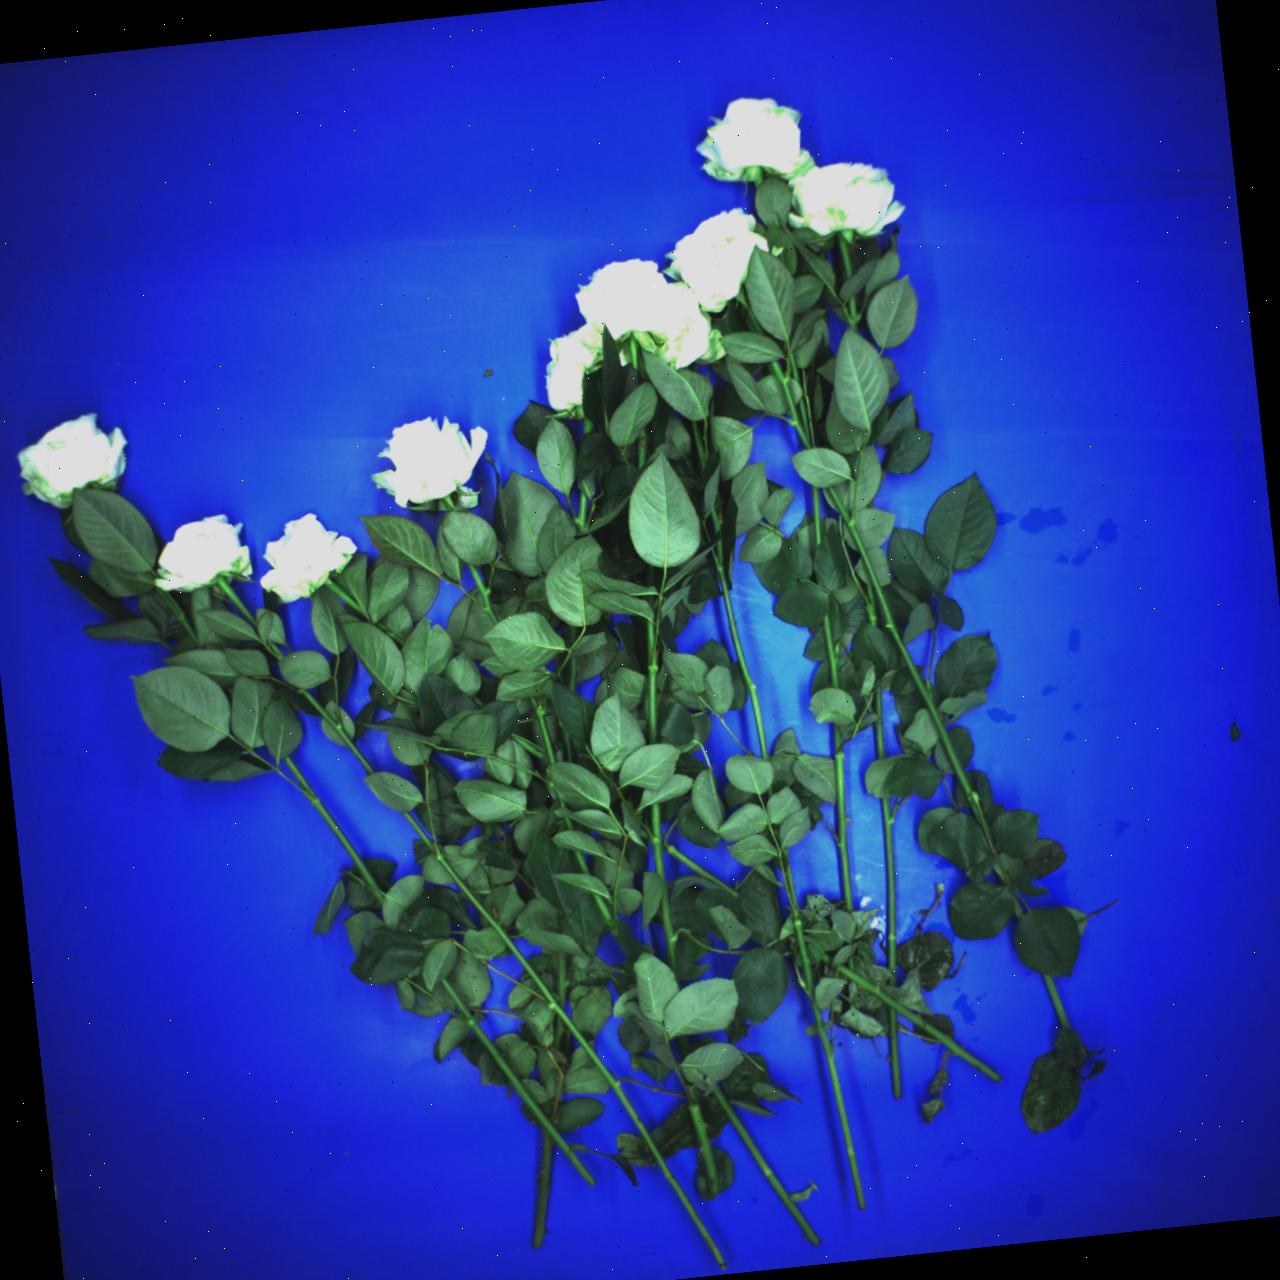Stem: (389, 804, 744, 1272), (824, 483, 992, 830), (438, 979, 597, 1189), (790, 906, 866, 1211), (836, 965, 1005, 1083), (709, 1084, 821, 1246), (281, 755, 389, 905), (710, 540, 772, 763), (299, 682, 376, 781), (648, 803, 680, 990), (659, 839, 741, 899), (831, 723, 855, 914), (770, 359, 812, 451), (155, 585, 205, 649), (880, 797, 898, 972), (688, 1104, 721, 1194), (531, 1131, 554, 1248), (216, 578, 261, 631), (468, 560, 501, 628), (530, 695, 558, 764), (325, 579, 372, 619), (819, 613, 843, 690), (886, 1006, 903, 1099), (1043, 973, 1070, 1029), (646, 620, 658, 744), (592, 892, 621, 937), (510, 733, 545, 760), (782, 849, 797, 908), (690, 421, 708, 472), (873, 687, 885, 758), (374, 620, 406, 646), (836, 232, 852, 280), (811, 485, 823, 547), (798, 400, 811, 444), (572, 847, 591, 878), (557, 951, 566, 1010), (550, 1016, 566, 1049), (846, 297, 860, 334), (706, 504, 723, 533), (865, 585, 877, 628), (577, 491, 588, 535), (787, 355, 802, 387), (748, 307, 764, 336), (563, 729, 574, 763), (550, 792, 570, 810), (268, 639, 285, 660), (629, 336, 639, 372), (639, 430, 647, 470), (678, 1036, 689, 1062), (567, 659, 576, 692), (1010, 900, 1024, 919), (645, 565, 654, 588), (639, 830, 654, 843), (563, 816, 574, 832), (821, 954, 835, 967), (584, 417, 593, 435), (568, 626, 574, 648), (472, 696, 484, 707), (767, 785, 775, 798), (890, 972, 896, 985)
flower: (363, 390, 495, 529), (656, 192, 784, 320), (7, 403, 141, 517), (244, 501, 361, 619), (695, 95, 816, 184), (571, 252, 679, 346), (144, 510, 256, 599), (790, 162, 906, 240), (537, 316, 608, 420), (659, 280, 714, 370)
